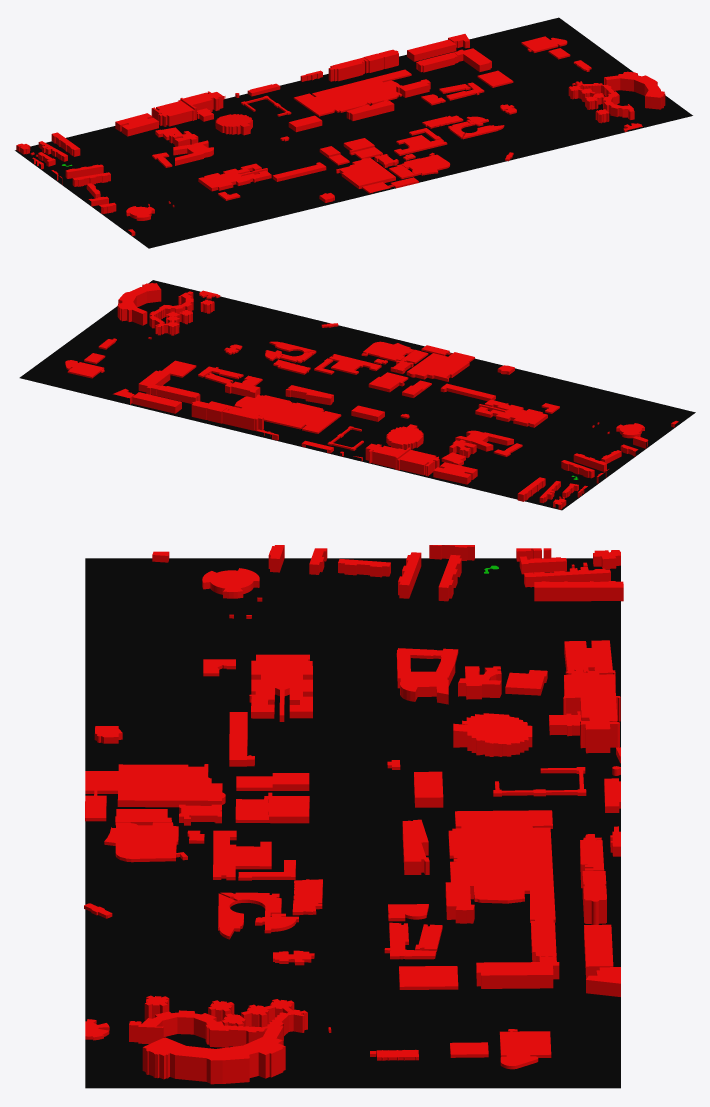
3 views of the same model, one above another, from view 1: azimuth 30°, elevation 25°; view 2: azimuth 150°, elevation 25°; view 3: azimuth 270°, elevation 25° (orthographic). The views are drawn at different scales.
Visible parts, largest first — view 1: TransformZUpToYUp; view 2: TransformZUpToYUp; view 3: TransformZUpToYUp.
Boxes of the visible parts, <box> form: TransformZUpToYUp: <box>15,17,692,248</box>; TransformZUpToYUp: <box>19,280,695,510</box>; TransformZUpToYUp: <box>84,545,623,1088</box>.
Bounding box in the file's own units: 1035 × 20.85 × 458.
